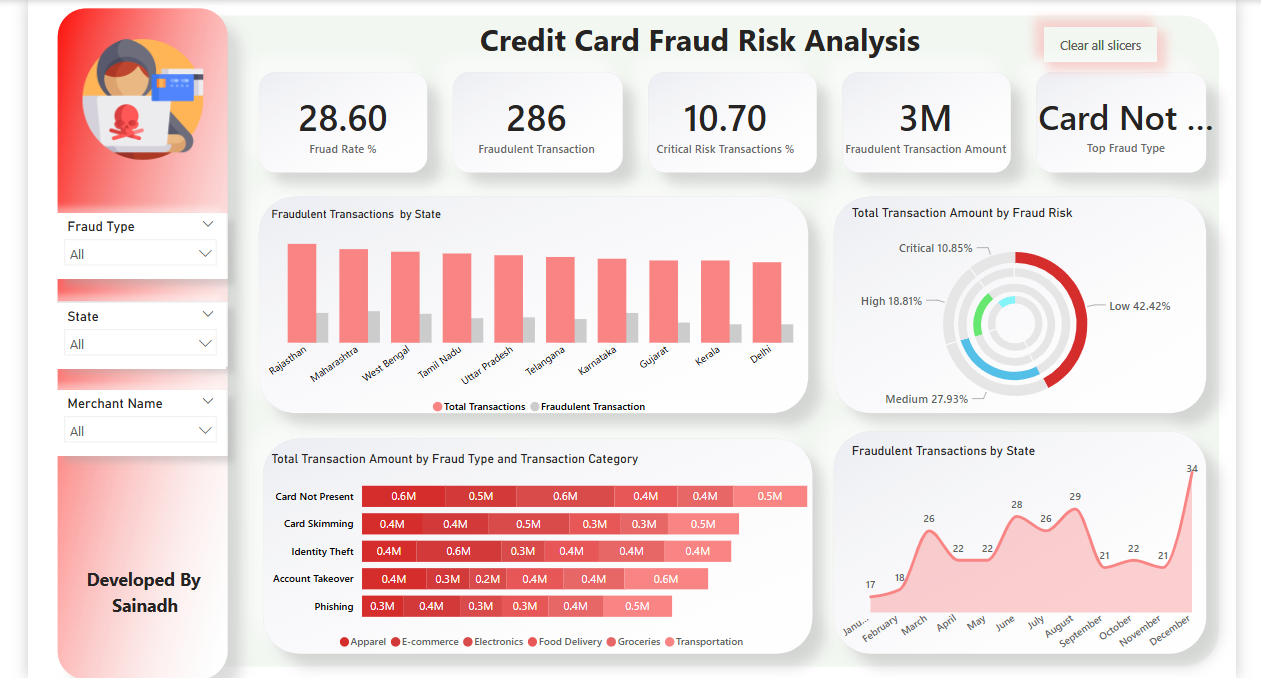

The dashboard page shown, as its layout file describes it:
{"tool":"powerbi","page":{"name":"Page 1","canvas":[1280,720],"ordinal":0},"visuals":[{"type":"card","fields":{"Values":["Measures Table.Fruad Rate %"]},"box":[233.8,76.3,200.4,109.8],"z":0},{"type":"card","fields":{"Values":["Measures Table.Fraudulent Transaction Amount"]},"box":[855.7,76.3,192.5,109.8],"z":1000},{"type":"card","fields":{"Values":["Measures Table.Fraudulent Transaction"]},"box":[439,76.3,200.4,109.8],"z":2000},{"type":"card","fields":{"Values":["Measures Table.Critical Risk Transactions %"]},"box":[639.4,76.3,200.4,109.8],"z":3000},{"type":"card","fields":{"Values":["Measures Table.Top Fraud Type"]},"box":[1064.1,76.3,200.4,109.8],"z":4000},{"type":"barChart","fields":{"Y":["Measures Table.Total Transaction Amount"],"Category":["Credit Card Fraud Risk Analysis.Fraud Type"],"Series":["Credit Card Fraud Risk Analysis.Transaction Category"]},"box":[252.9,478.8,586.9,219.5],"z":5000},{"type":"donutChart","fields":{"Category":["Credit Card Fraud Risk Analysis.Fraud Risk"],"Y":["Measures Table.Total Transaction Amount"]},"box":[854.2,238.6,384.9,210],"z":6000},{"type":"donutChart","fields":{"Category":["Credit Card Fraud Risk Analysis.Fraud Risk"],"Y":["Measures Table.Total Transaction Amount"]},"box":[927.3,264,237,159.1],"z":7000},{"type":"donutChart","fields":{"Category":["Credit Card Fraud Risk Analysis.Fraud Risk"],"Y":["Measures Table.Total Transaction Amount"]},"box":[1005.3,300.6,82.7,84.3],"z":8000},{"type":"donutChart","fields":{"Category":["Credit Card Fraud Risk Analysis.Fraud Risk"],"Y":["Measures Table.Total Transaction Amount"]},"box":[986.2,283.1,119.3,122.5],"z":9000},{"type":"textbox","box":[868.5,210,300.6,41.4],"z":10000},{"type":"clusteredColumnChart","fields":{"Category":["Credit Card Fraud Risk Analysis.State"],"Y":["Measures Table.Total Transactions","Measures Table.Fraudulent Transaction"]},"box":[248.1,210,591.7,239],"z":11000},{"type":"textbox","box":[252.9,211.6,456.5,41.4],"z":12000},{"type":"textbox","box":[868.5,462.9,300.6,41.4],"z":13000},{"type":"areaChart","fields":{"Category":["Credit Card Fraud Risk Analysis.Transaction Date.Variation.Date Hierarchy.Month"],"Y":["Measures Table.Fraudulent Transaction"]},"box":[855.7,478.8,396.1,219.5],"z":14000},{"type":"slicer","fields":{"Values":["Credit Card Fraud Risk Analysis.Fraud Type"]},"box":[28.6,225.9,181.3,70],"z":15000},{"type":"slicer","fields":{"Values":["Credit Card Fraud Risk Analysis.State"]},"box":[28.6,321.3,181.3,70],"z":16000},{"type":"slicer","fields":{"Values":["Credit Card Fraud Risk Analysis.Merchant Name"]},"box":[28.6,413.6,181.3,70],"z":17000},{"type":"textbox","box":[461.3,14.3,502.6,55.7],"z":18000},{"type":"actionButton","box":[1076.8,28.6,120.9,36.6],"z":19000},{"type":"actionButton","box":[1076.8,28.6,120.9,36.6],"z":20000},{"type":"image","box":[52.5,25.4,138.4,160.7],"z":20001},{"type":"textbox","box":[47.7,596.5,149.5,41.4],"z":20002},{"type":"textbox","box":[52.5,623.5,143.2,41.4],"z":20003}]}

Visuals, with their boxes on the page's 1280x720 design canvas (x1, y1, x2, y2). These are canvas units, not pixel positions in the 1261x678 screenshot, which may show the page scaled, cropped or inside an application window:
card - Measures Table.Fruad Rate %: 234 76 434 186
card - Measures Table.Fraudulent Transaction Amount: 856 76 1048 186
card - Measures Table.Fraudulent Transaction: 439 76 639 186
card - Measures Table.Critical Risk Transactions %: 639 76 840 186
card - Measures Table.Top Fraud Type: 1064 76 1264 186
barChart - Measures Table.Total Transaction Amount x Credit Card Fraud Risk Analysis.Fraud Type: 253 479 840 698
donutChart - Credit Card Fraud Risk Analysis.Fraud Risk x Measures Table.Total Transaction Amount: 854 239 1239 449
donutChart - Credit Card Fraud Risk Analysis.Fraud Risk x Measures Table.Total Transaction Amount: 927 264 1164 423
donutChart - Credit Card Fraud Risk Analysis.Fraud Risk x Measures Table.Total Transaction Amount: 1005 301 1088 385
donutChart - Credit Card Fraud Risk Analysis.Fraud Risk x Measures Table.Total Transaction Amount: 986 283 1106 406
textbox: 868 210 1169 251
clusteredColumnChart - Credit Card Fraud Risk Analysis.State x Measures Table.Total Transactions: 248 210 840 449
textbox: 253 212 709 253
textbox: 868 463 1169 504
areaChart - Credit Card Fraud Risk Analysis.Transaction Date.Variation.Date Hierarchy.Month x Measures Table.Fraudulent Transaction: 856 479 1252 698
slicer - Credit Card Fraud Risk Analysis.Fraud Type: 29 226 210 296
slicer - Credit Card Fraud Risk Analysis.State: 29 321 210 391
slicer - Credit Card Fraud Risk Analysis.Merchant Name: 29 414 210 484
textbox: 461 14 964 70
actionButton: 1077 29 1198 65
actionButton: 1077 29 1198 65
image: 52 25 191 186
textbox: 48 596 197 638
textbox: 52 624 196 665
